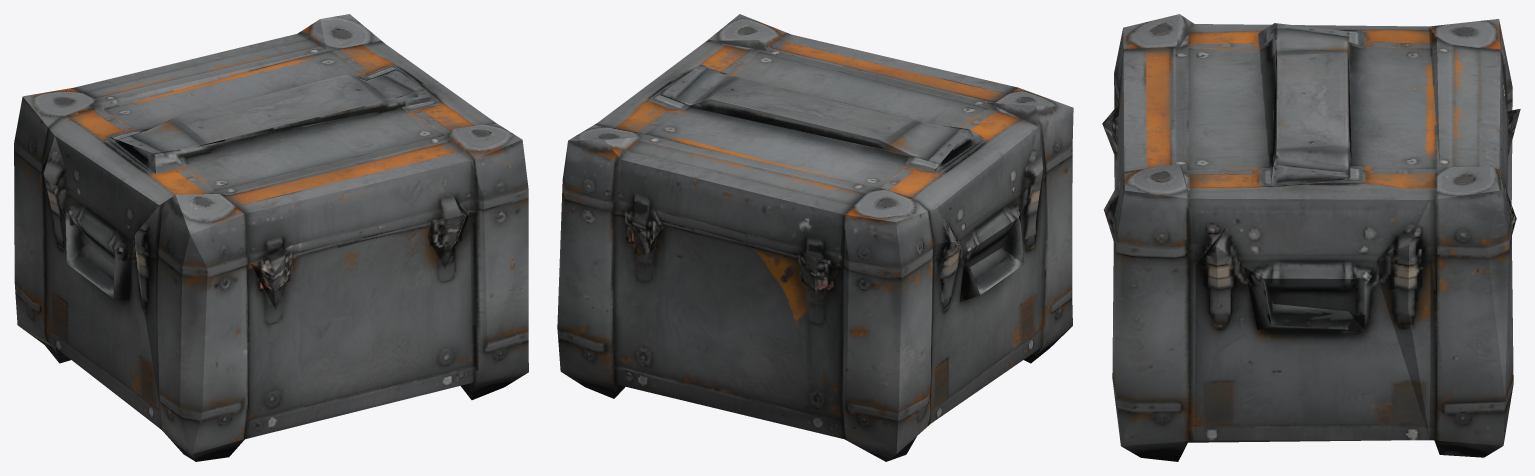
The model's file is crate_lod0.glb.
3 renders of one model, left to right at view 1: azimuth 30°, elevation 25°; view 2: azimuth 150°, elevation 25°; view 3: azimuth 270°, elevation 25°, orthographic. The views are drawn at different scales.
Visible parts, largest first — view 1: low; view 2: low; view 3: low.
Boxes of the visible parts, x1,y1,x2,y2 form: low: [14, 14, 528, 461]; low: [557, 14, 1073, 461]; low: [1102, 14, 1520, 461].
Bounding box in the file's own units: 1.3 × 0.8966 × 1.17.
1 material, 1 textured.
